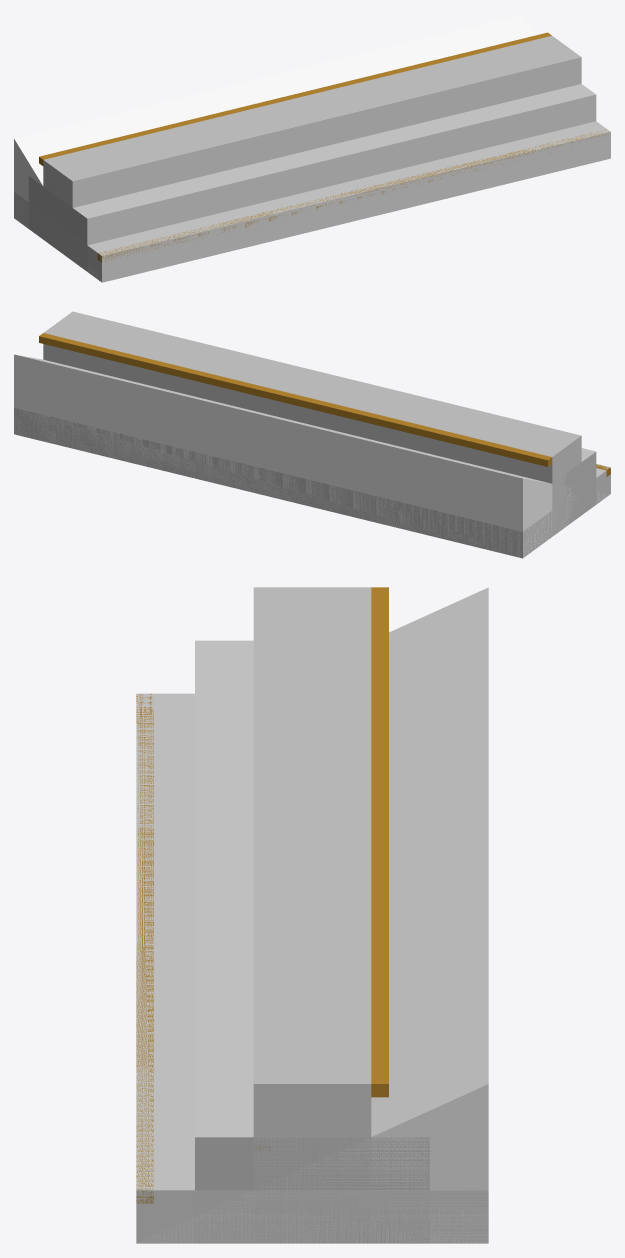
Rendered from Stairs_Short.fbx.
3 renders of one model, top to bottom at view 1: azimuth 30°, elevation 25°; view 2: azimuth 150°, elevation 25°; view 3: azimuth 270°, elevation 25°, orthographic. The views are drawn at different scales.
Parts seen in each view (by area): view 1: Stairs_Short, Stairs_Short_COL_Ramp; view 2: Stairs_Short, Stairs_Short_COL_Ramp; view 3: Stairs_Short, Stairs_Short_COL_Ramp.
Part boxes in pixels (x1,y1,x2,y2): Stairs_Short: (14,32,610,282); Stairs_Short_COL_Ramp: (14,14,535,281); Stairs_Short: (14,311,610,558); Stairs_Short_COL_Ramp: (14,354,610,557); Stairs_Short: (136,587,488,1243); Stairs_Short_COL_Ramp: (139,587,488,1243).
Bounding box in the file's own units: 4 × 0.6 × 1.2.
